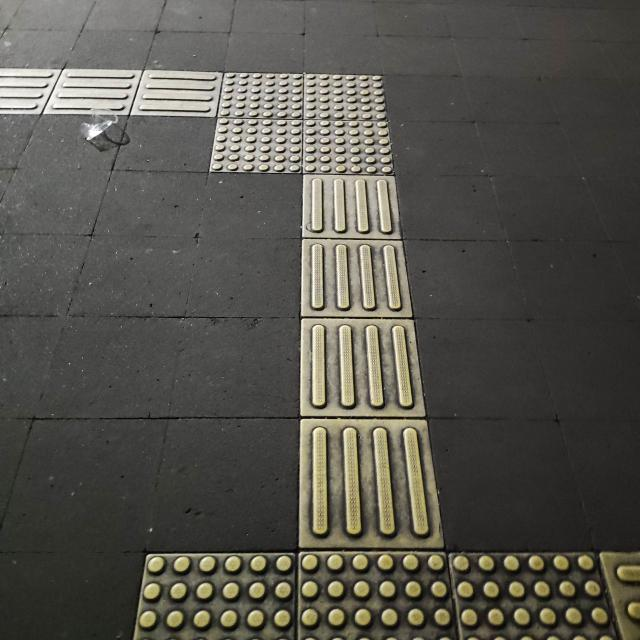kiri: (92, 57, 433, 238)
